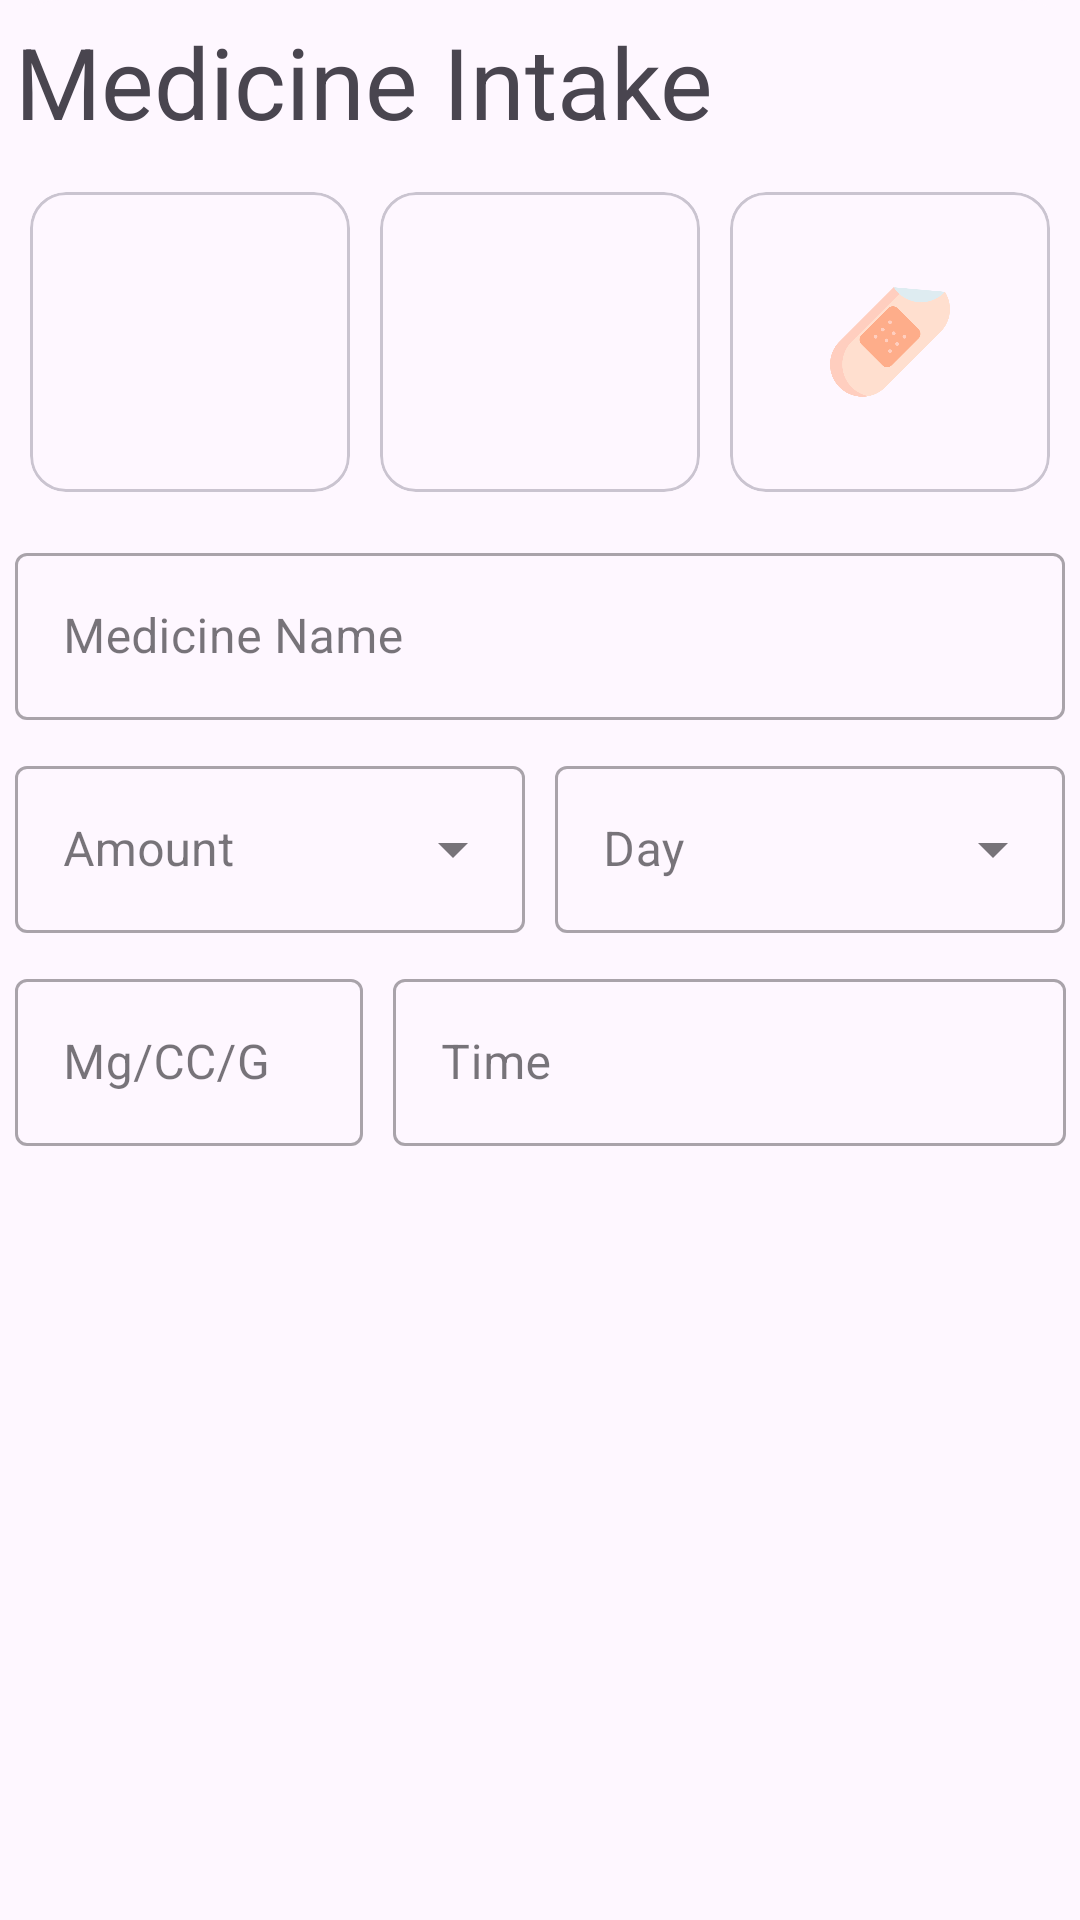

Icons on this 1080×1920 Android screen, each with the point to tap as point (x, y):
patch: point (890, 342)
